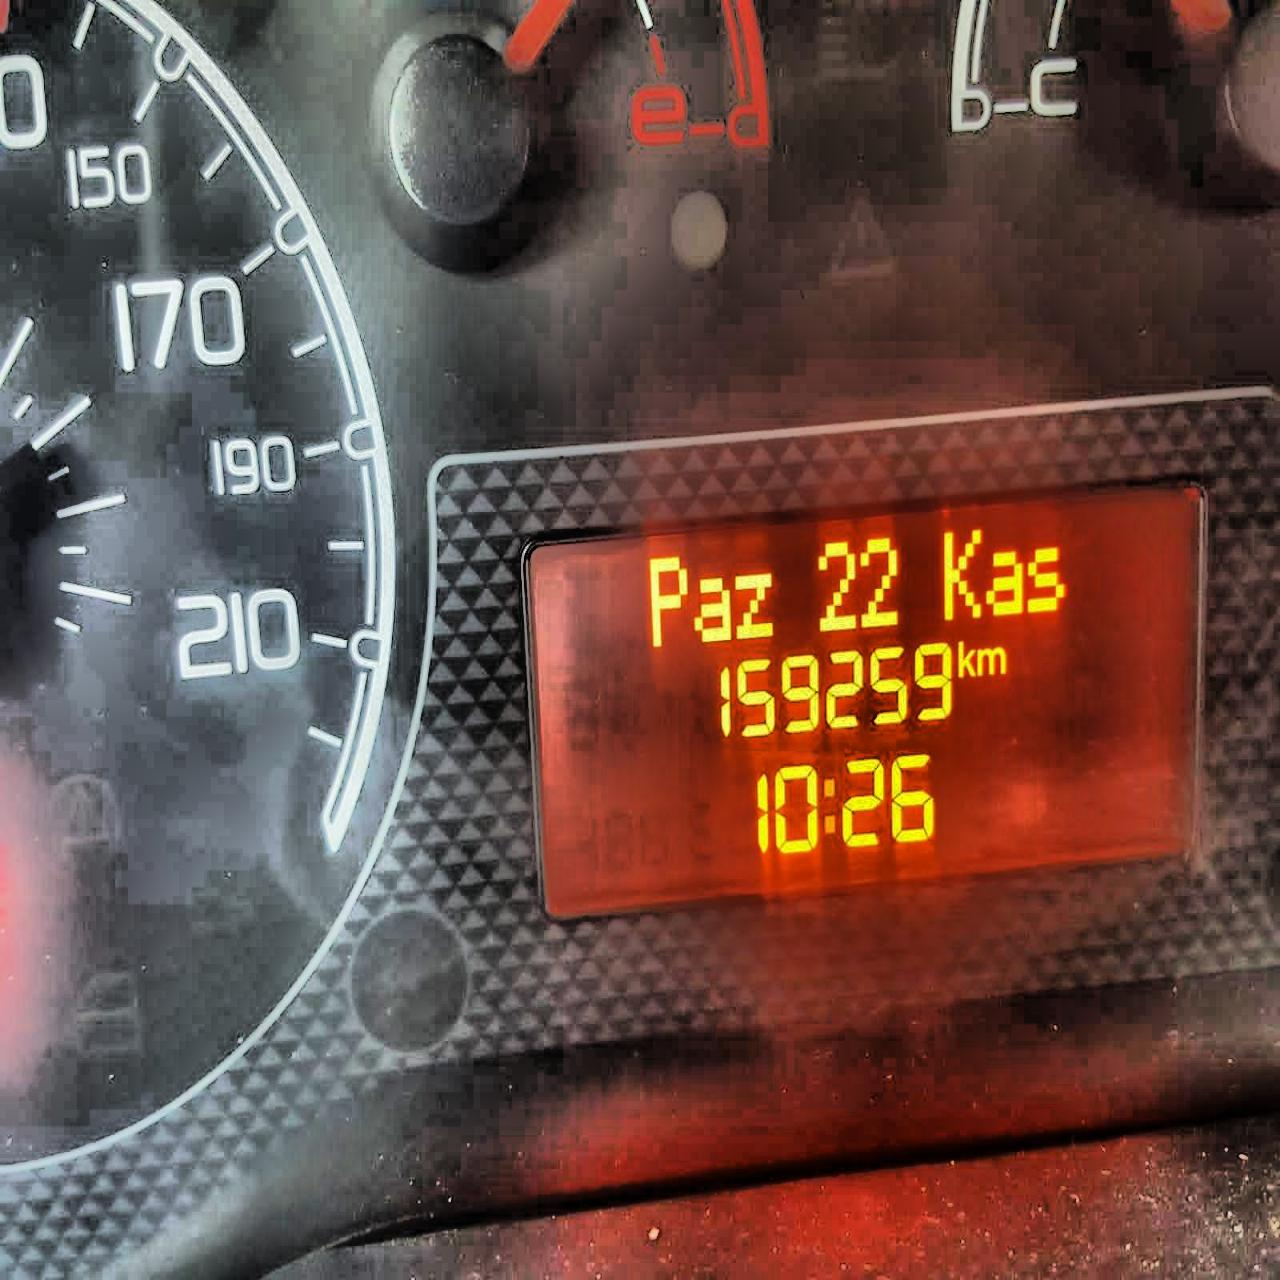0: (772, 764, 819, 855)
1: (753, 770, 770, 853), (717, 662, 734, 740)
2: (840, 755, 886, 849), (859, 533, 899, 629), (817, 538, 857, 632), (824, 647, 865, 729)
5: (869, 644, 910, 727), (737, 655, 777, 741)
6: (890, 751, 935, 844)
9: (778, 653, 821, 735), (912, 640, 953, 722)
X: (646, 553, 689, 651), (940, 526, 983, 622), (1024, 540, 1068, 617), (733, 570, 775, 642), (692, 573, 731, 645), (986, 546, 1024, 619), (975, 645, 1007, 676), (821, 774, 836, 837), (955, 636, 975, 679)
odometer: (516, 469, 1208, 925)
